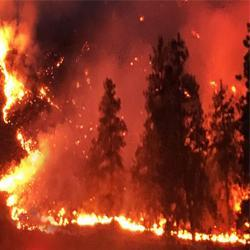fire: (0, 34, 21, 101), (79, 214, 146, 233), (178, 230, 246, 245), (4, 167, 23, 193), (152, 223, 165, 235)
